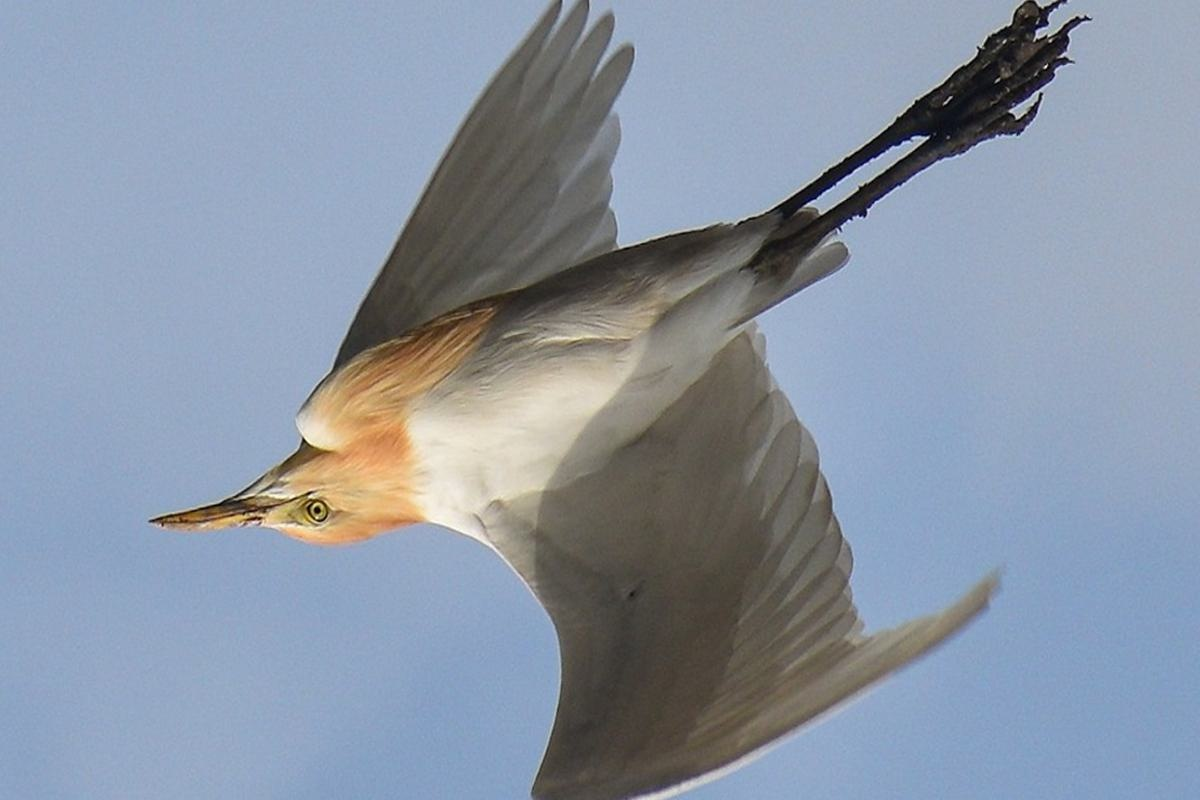egret: (134, 1, 1052, 791)
